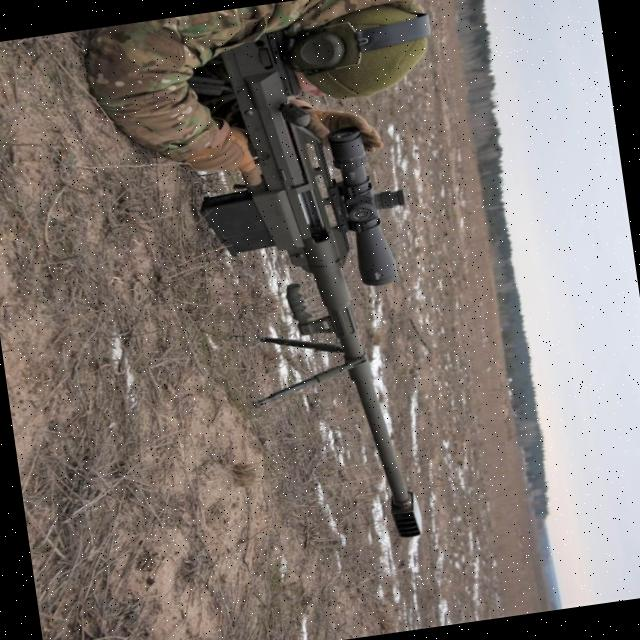Sniper: (161, 19, 448, 558)
